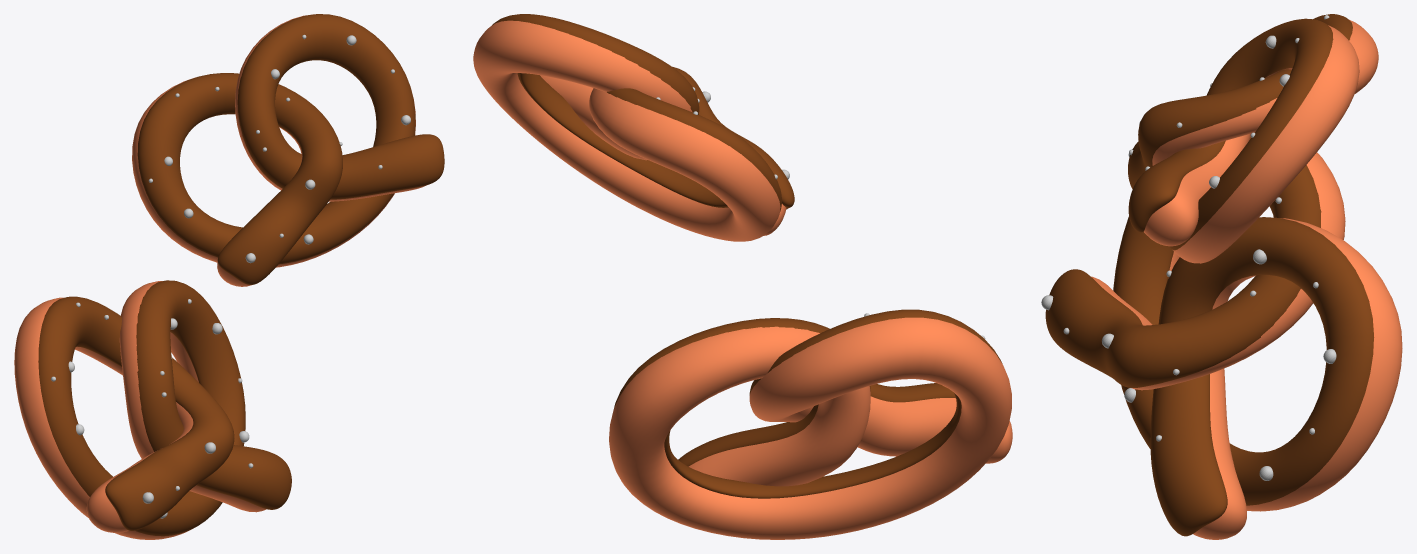
Rendered from pretzel.gltf.
The picture shows the model from 3 angles, left to right: view 1: azimuth 30°, elevation 25°; view 2: azimuth 150°, elevation 25°; view 3: azimuth 270°, elevation 25°; orthographic projection. The views are drawn at different scales.
Visible parts, largest first — view 1: Cube.038, Cube.011; view 2: Cube.038, Cube.011; view 3: Cube.038, Cube.011.
Boxes of the visible parts, left/top/right/bottom form: Cube.038: left=14, top=280, right=291, bottom=539; Cube.011: left=132, top=14, right=444, bottom=286; Cube.038: left=609, top=309, right=1012, bottom=539; Cube.011: left=473, top=14, right=794, bottom=241; Cube.038: left=1041, top=152, right=1402, bottom=539; Cube.011: left=1128, top=14, right=1378, bottom=263.
Bounding box in the file's own units: 9.11 × 9.16 × 5.34.
